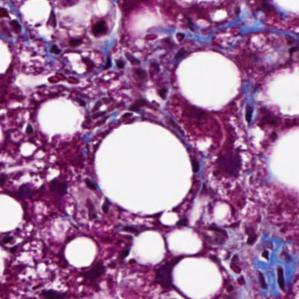inflammation: (8, 13, 68, 71), (102, 45, 165, 87)
